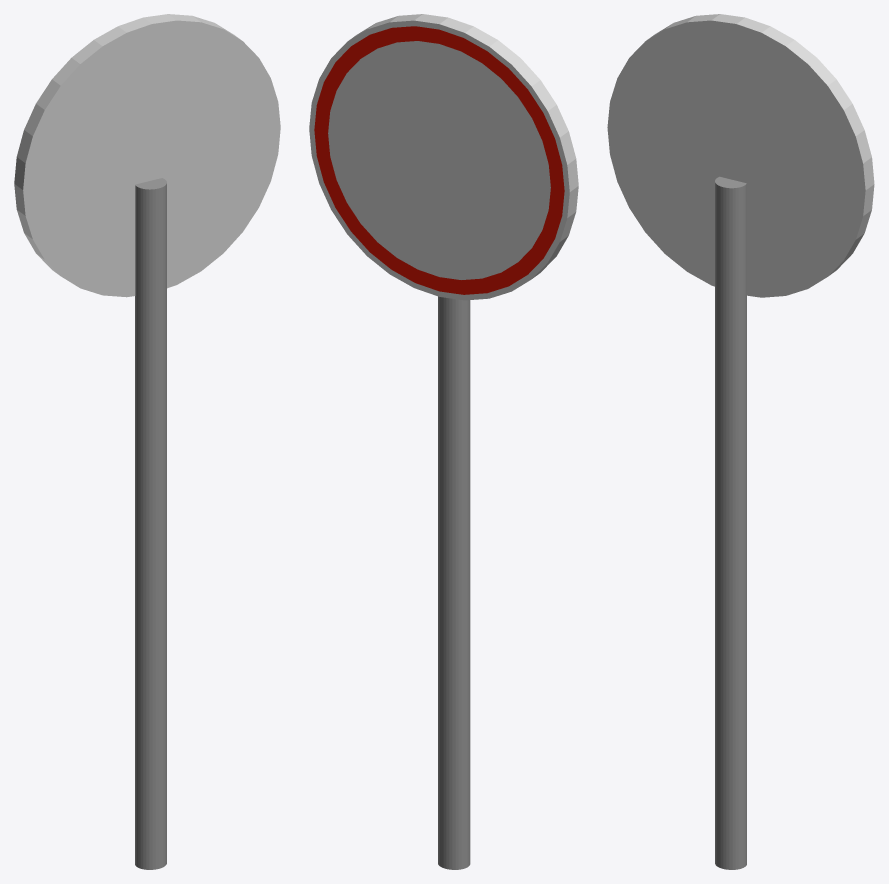
File: circle.033_lev3.glb
3 views of the same model, side by side, from view 1: azimuth 30°, elevation 25°; view 2: azimuth 150°, elevation 25°; view 3: azimuth 330°, elevation 25° (orthographic).
Parts seen in each view (by area): view 1: circle.033_lev3; view 2: circle.033_lev3; view 3: circle.033_lev3.
Part boxes in pixels (<box>): circle.033_lev3: <box>14,14,280,869</box>; circle.033_lev3: <box>309,14,578,869</box>; circle.033_lev3: <box>607,14,874,869</box>.
Size of the model in its own units: 0.7189 by 2.23 by 0.0907.
